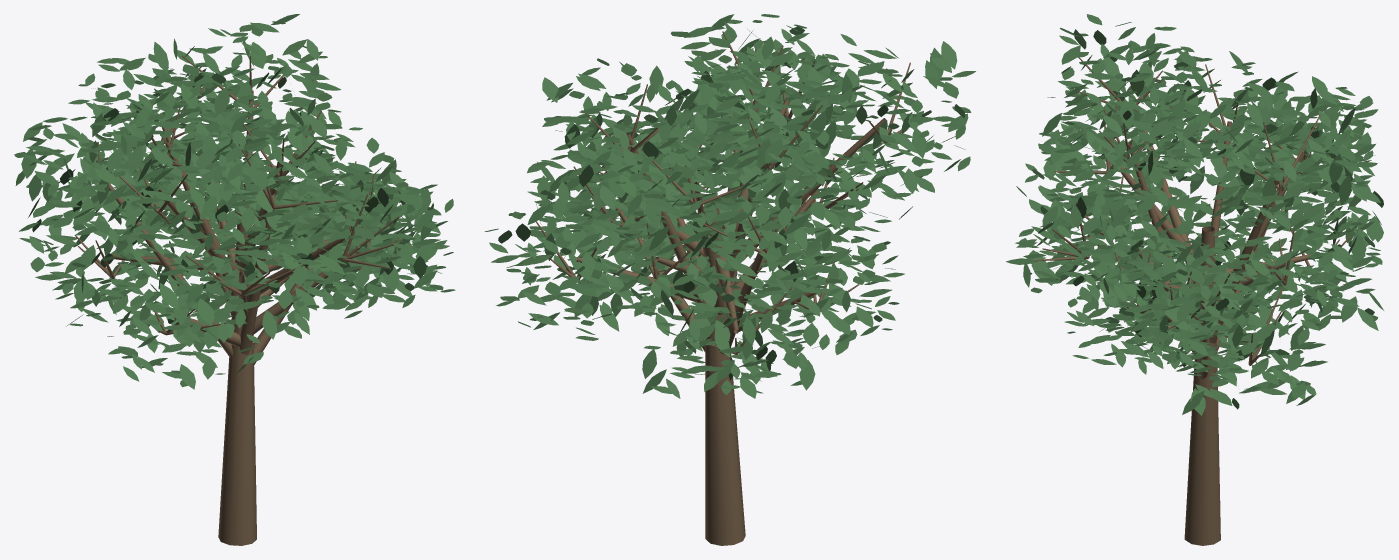
The model's file is Oak.fbx.
The picture shows the model from 3 angles, left to right: view 1: azimuth 30°, elevation 25°; view 2: azimuth 150°, elevation 25°; view 3: azimuth 270°, elevation 25°; orthographic projection. The views are drawn at different scales.
Visible parts, largest first — view 1: Body.050; view 2: Body.050; view 3: Body.050.
Part boxes in pixels (x1=…): Body.050: x1=14, y1=14, x2=455, y2=545; Body.050: x1=484, y1=14, x2=975, y2=545; Body.050: x1=1006, y1=14, x2=1383, y2=545.
Size of the model in its own units: 7.54 by 8.86 by 6.81.
